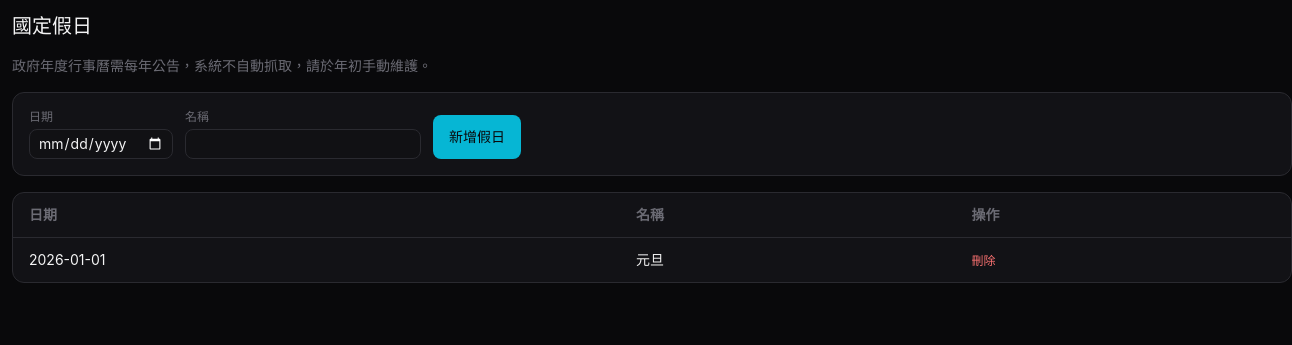
新增假日後依日期排序插入清單
Type "2025-12-25" into the date field labelled "日期". click: (101, 144)
box: [29, 129, 173, 159]
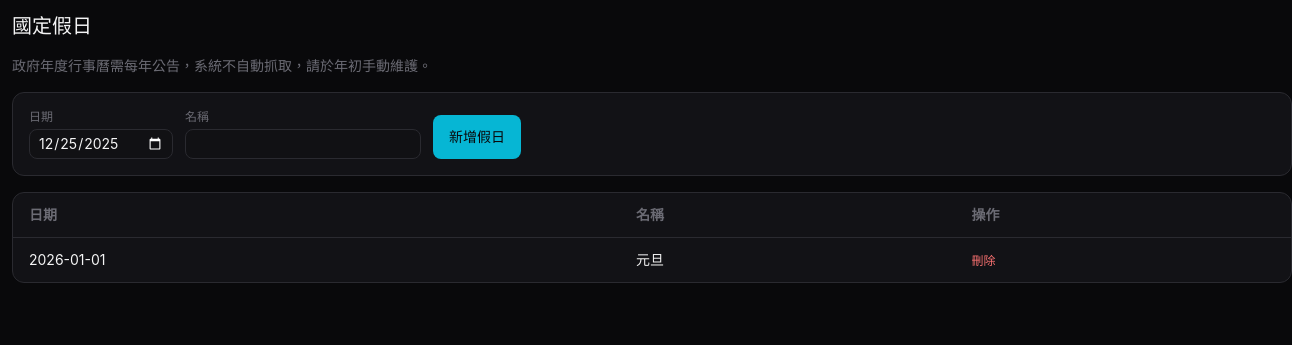
Type "聖誕節" into the field labelled "名稱". click: (303, 144)
box: [185, 129, 421, 159]
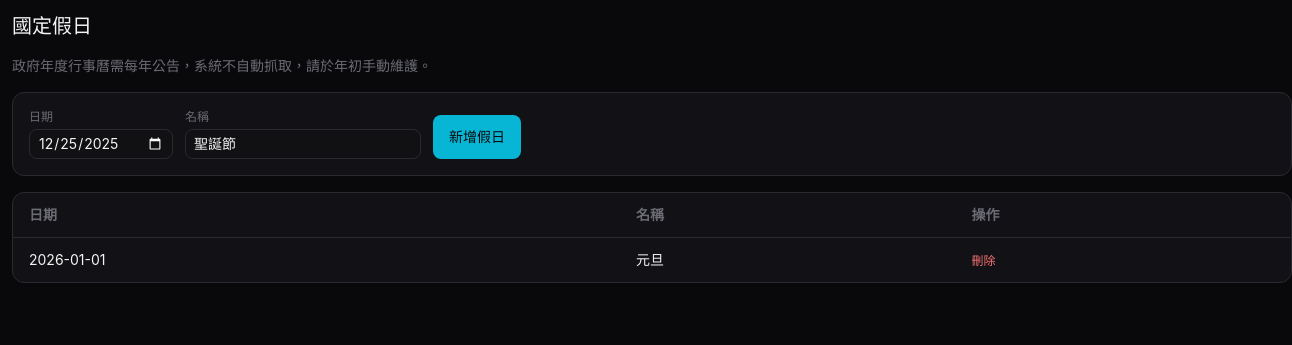
Click the button "新增假日". click: (477, 137)
box: [433, 115, 521, 159]
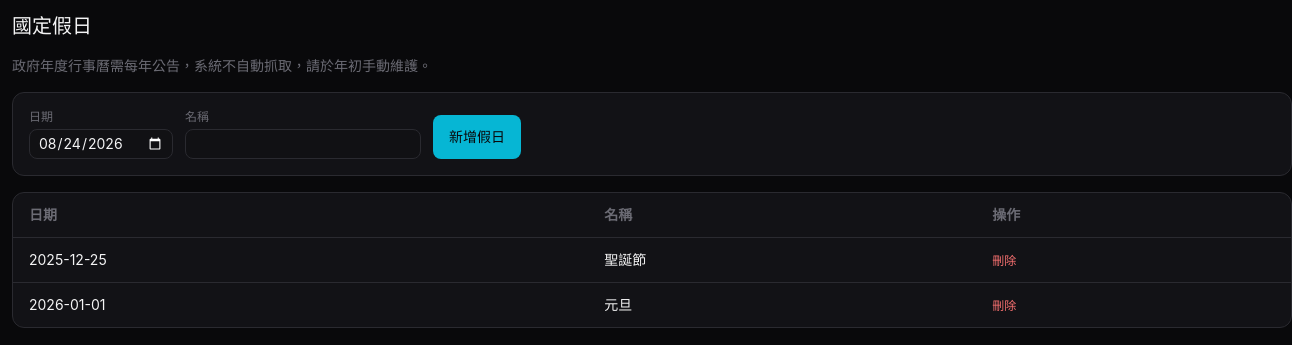
Result: the row "2025-12-25 聖誕節 刪除" is shown at [13, 238, 1291, 282]
